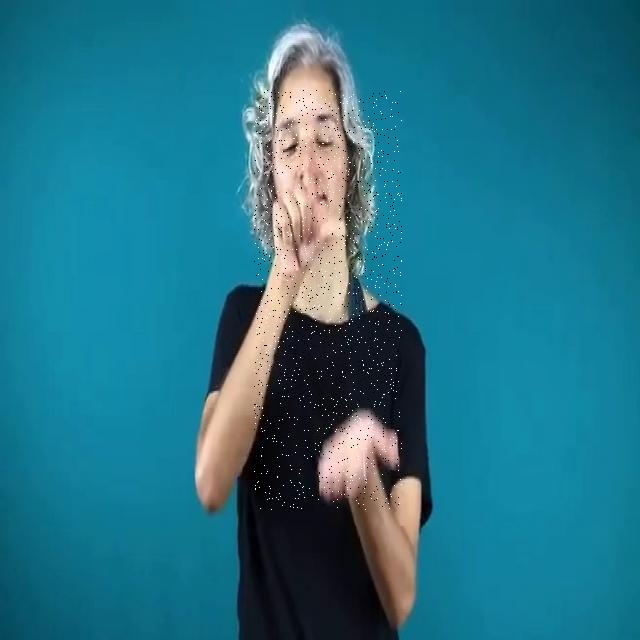chicken: (254, 90, 402, 510)
